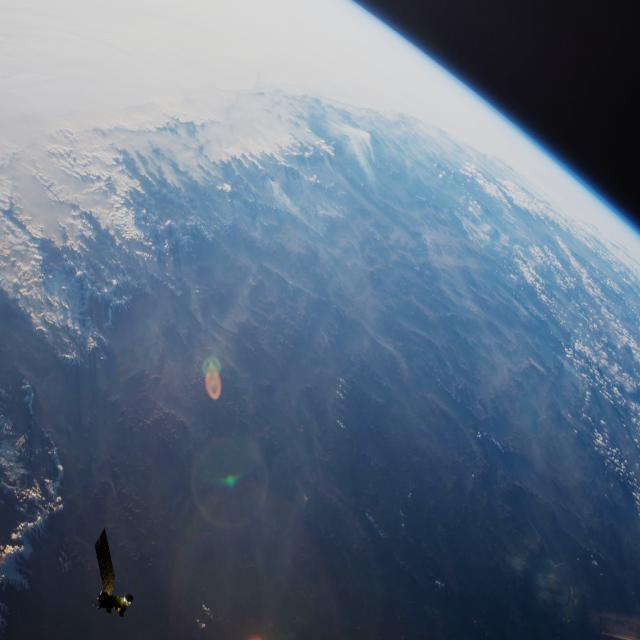satellite: (87, 513, 145, 630)
